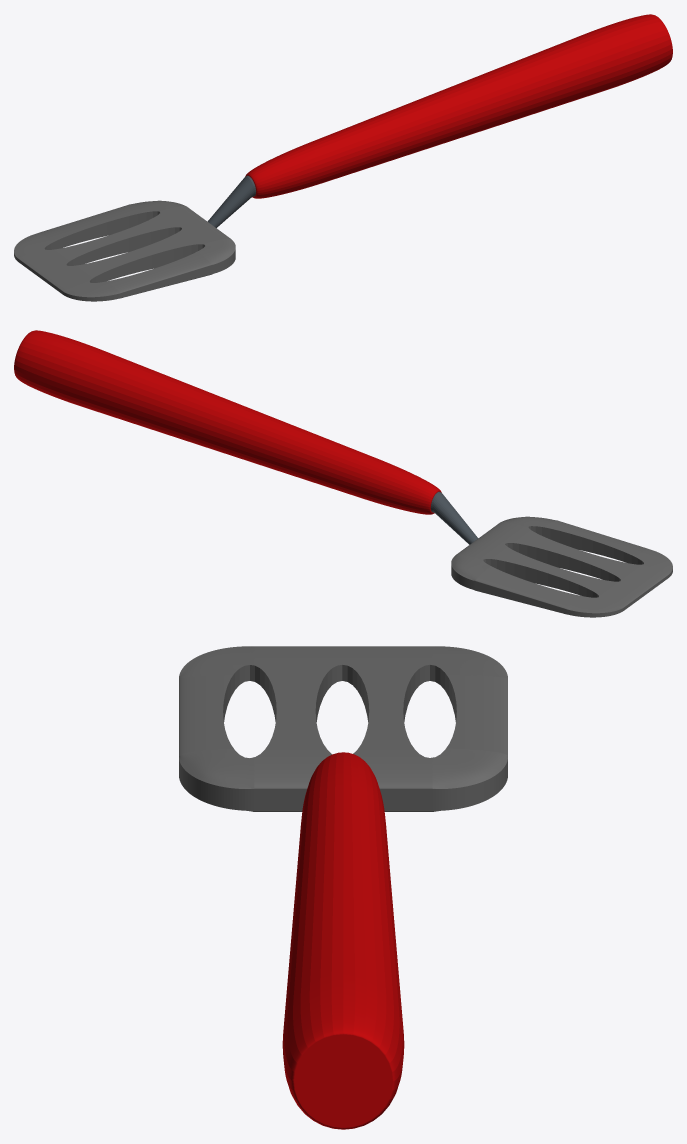
The model's file is espatula.fbx.
3 views of the same model, one above another, from view 1: azimuth 30°, elevation 25°; view 2: azimuth 150°, elevation 25°; view 3: azimuth 270°, elevation 25° (orthographic). The views are drawn at different scales.
Visible parts, largest first — view 1: Cilindro.004, Plano, Cilindro; view 2: Cilindro.004, Plano, Cilindro; view 3: Plano, Cilindro.004.
Part boxes in pixels (bbox=[...]): Cilindro.004: bbox=[245, 14, 672, 198]; Plano: bbox=[14, 200, 235, 301]; Cilindro: bbox=[207, 175, 255, 227]; Cilindro.004: bbox=[14, 330, 441, 514]; Plano: bbox=[451, 516, 672, 617]; Cilindro: bbox=[430, 491, 478, 544]; Plano: bbox=[179, 646, 507, 811]; Cilindro.004: bbox=[282, 752, 404, 1129].
Size of the model in its own units: 1007 by 177 by 231.
